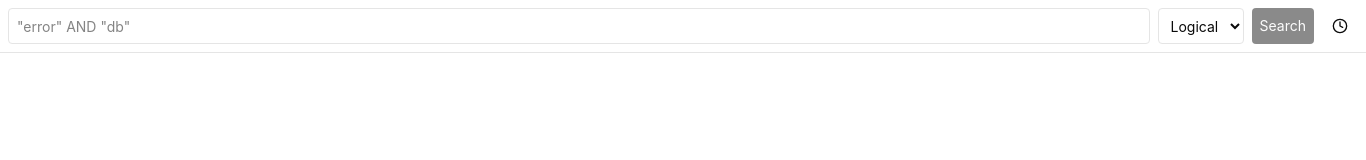
Test: SearchBar › search history › shows up to 5 autocomplete suggestions from search history when focused (FR-010)
Click the dropdown named "Search query" at point(579, 26), box [8,8,1150,44]
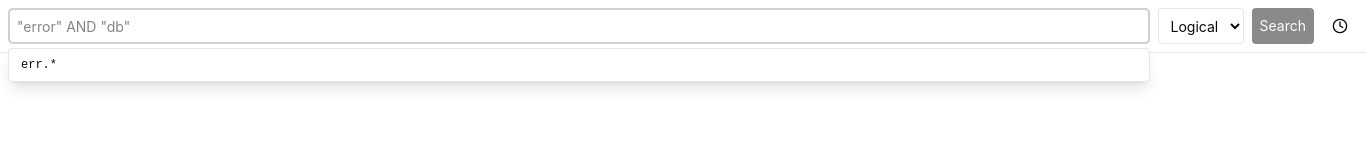
Expected: the list is shown, [8,48,1150,82]
Expected: the option "err.*" is shown, [13,53,1144,77]
